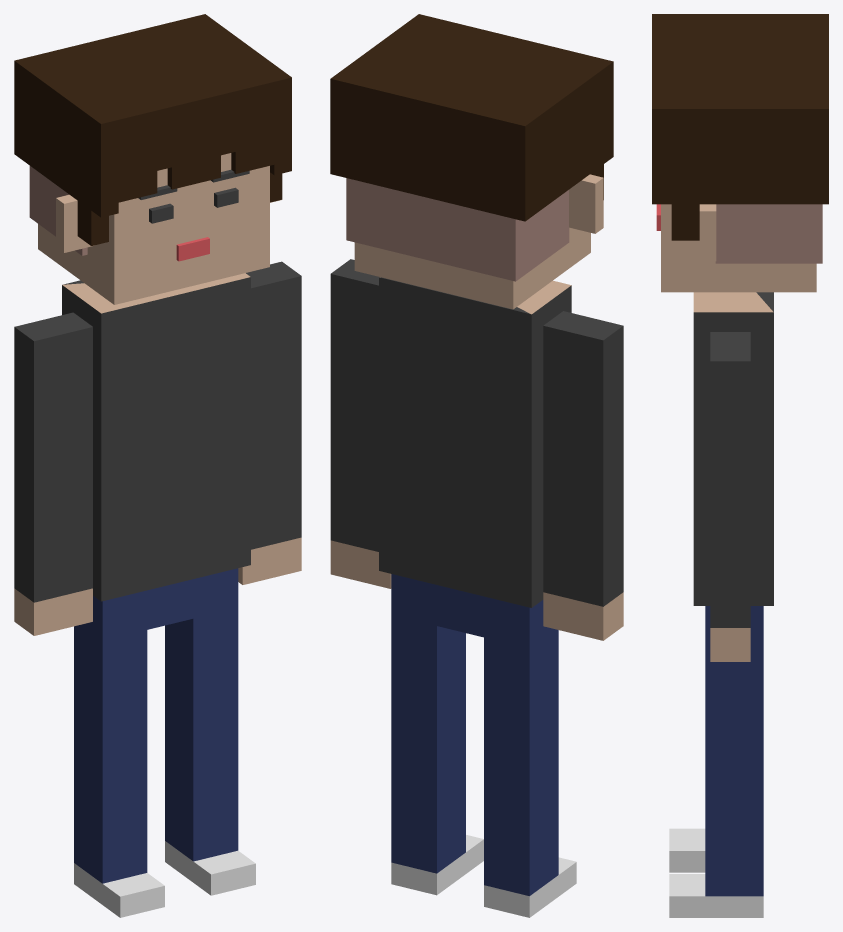
The model's file is customer1.fbx.
3 views of the same model, side by side, from view 1: azimuth 30°, elevation 25°; view 2: azimuth 150°, elevation 25°; view 3: azimuth 270°, elevation 25° (orthographic).
Visible parts, largest first — view 1: customer; view 2: customer; view 3: customer.
Boxes of the visible parts, left/top/right/bottom form: customer: left=14, top=14, right=301, bottom=917; customer: left=330, top=14, right=623, bottom=917; customer: left=652, top=14, right=828, bottom=917.
Bounding box in the file's own units: 7.6 × 21.89 × 4.27.
